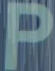Parking: (1, 1, 52, 66)
